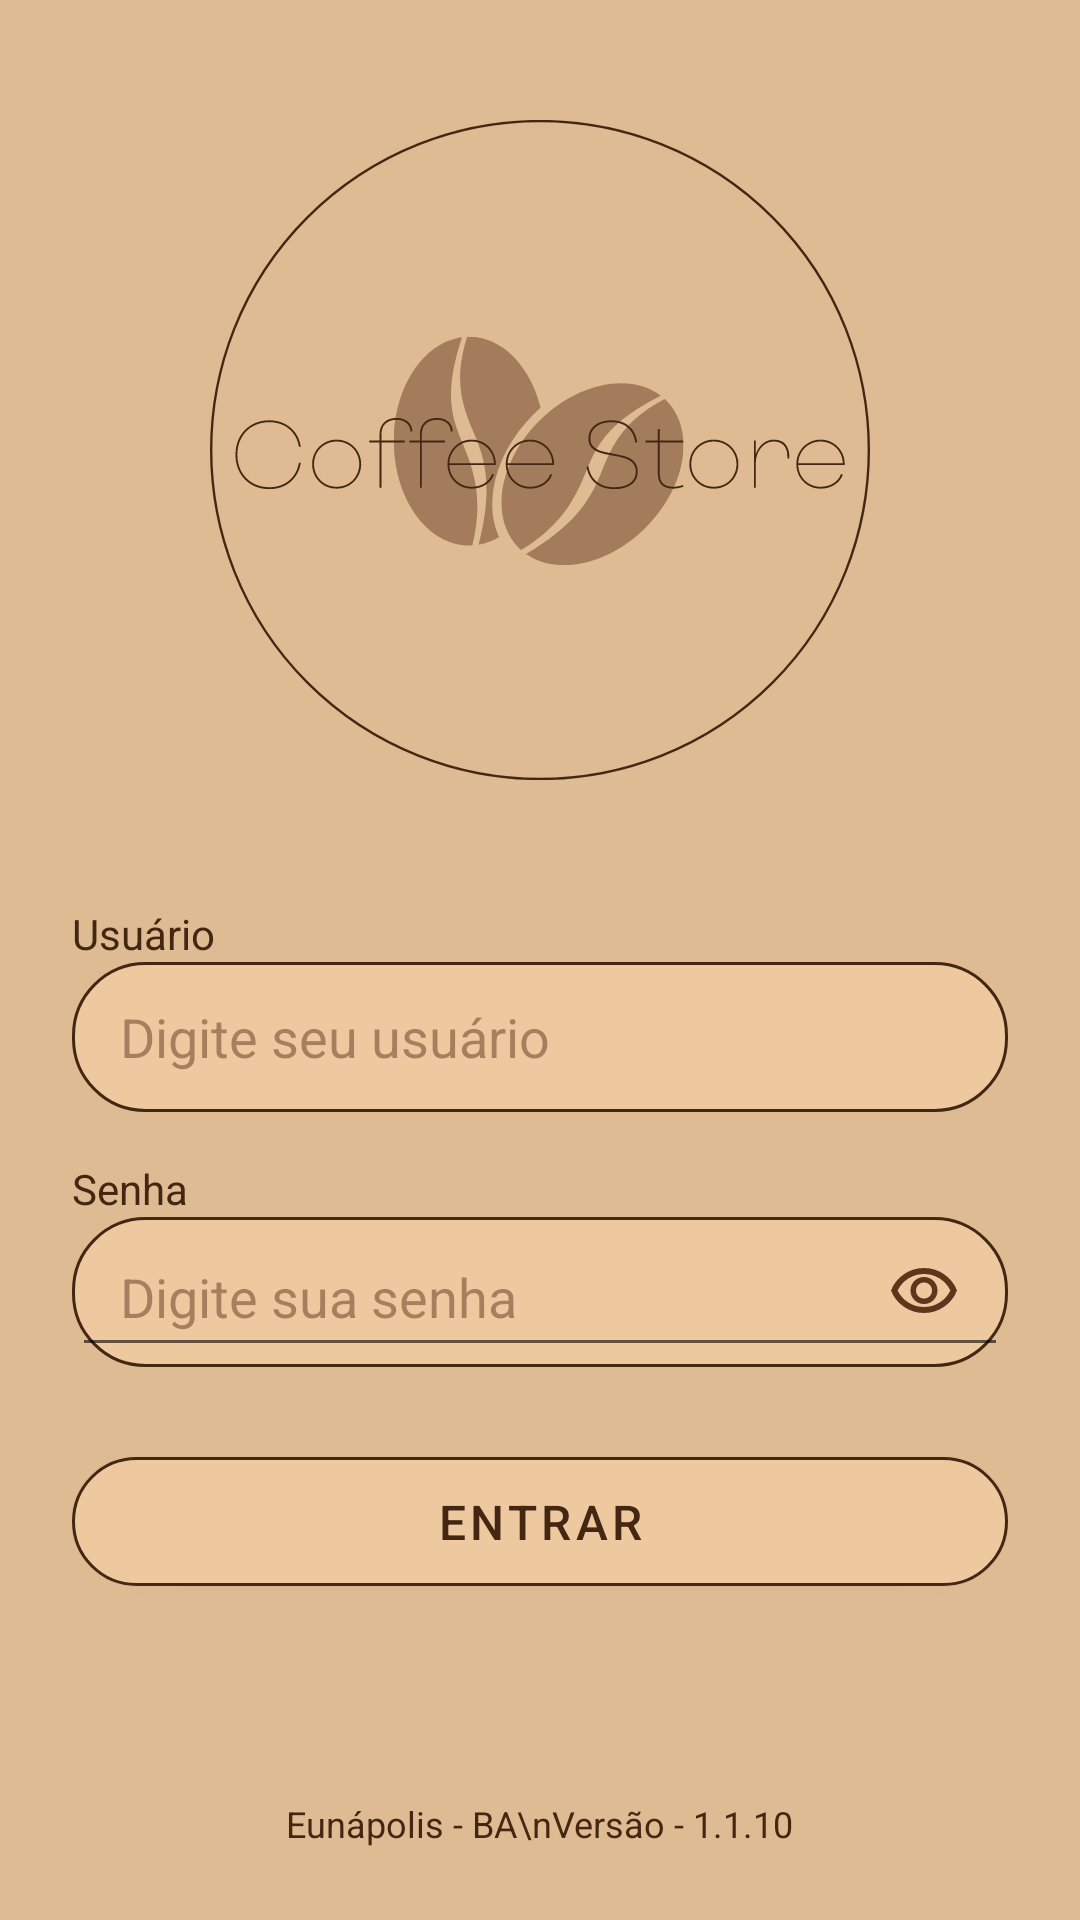

Icon bounding boxes for this 1080×1920 phone screenshot, format (x1, y1, x2, y2):
visibility: (891, 1268, 957, 1313)
